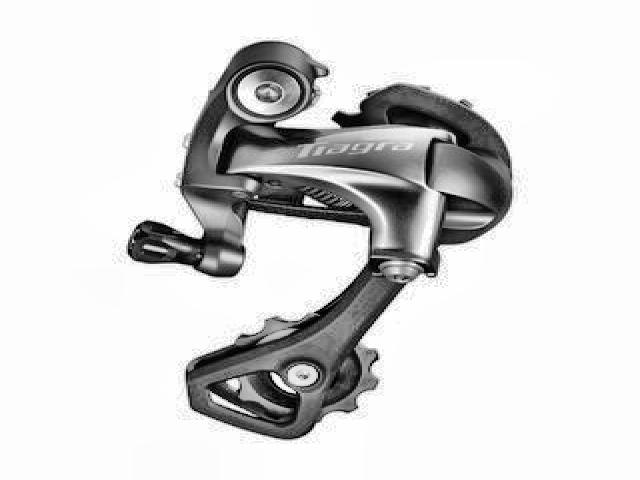rear_derailleur: (126, 33, 517, 442)
